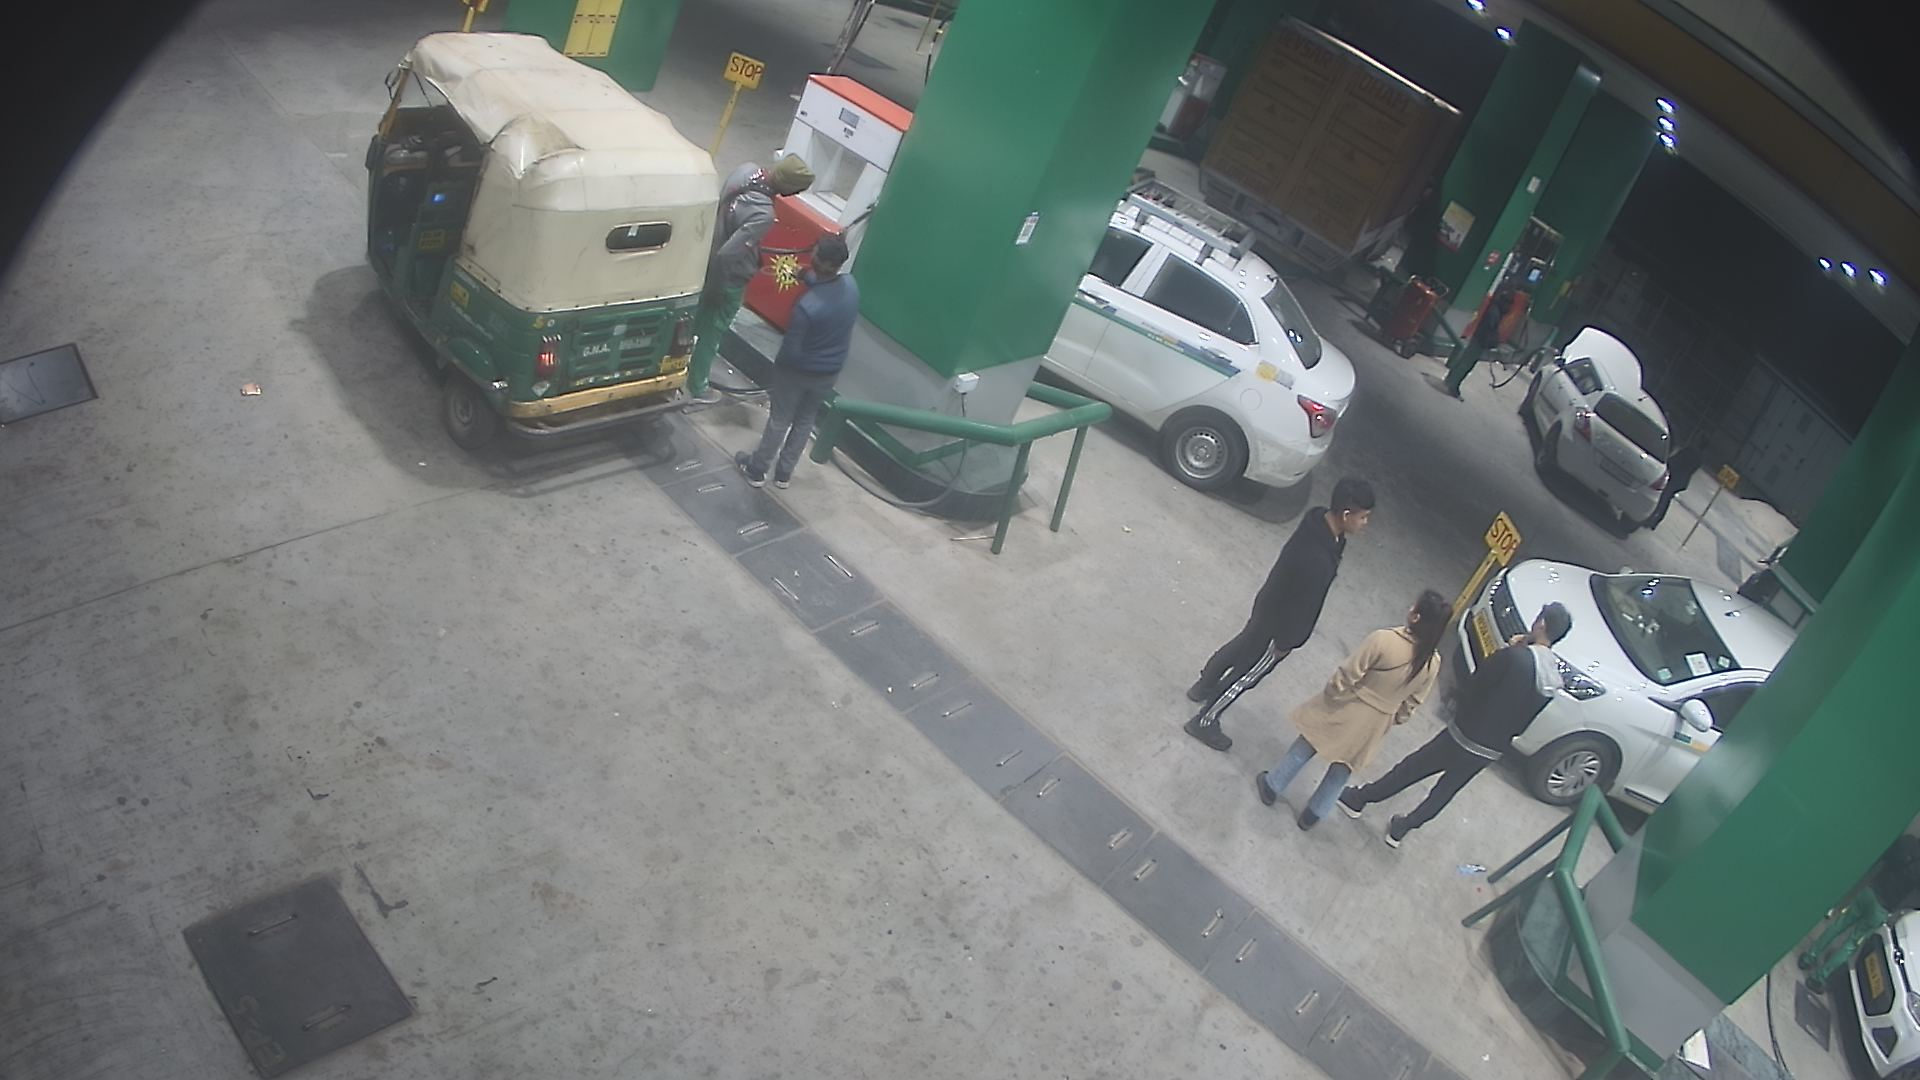Auto: (353, 26, 735, 480)
Car: (1000, 140, 1366, 512), (1422, 518, 1807, 852), (1510, 318, 1689, 553), (1789, 810, 1915, 1077)
HMV: (1164, 0, 1516, 320)
Others: (670, 146, 824, 410), (1785, 804, 1913, 1006)
Others Other: (1429, 504, 1527, 657), (694, 50, 767, 179), (1675, 460, 1739, 560), (446, 1, 502, 38)
